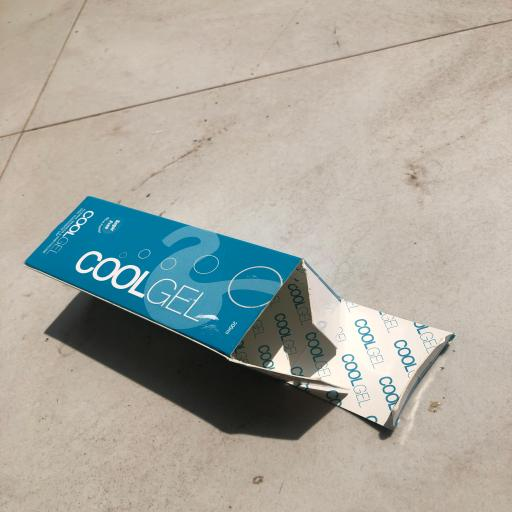waste: (22, 185, 465, 440)
